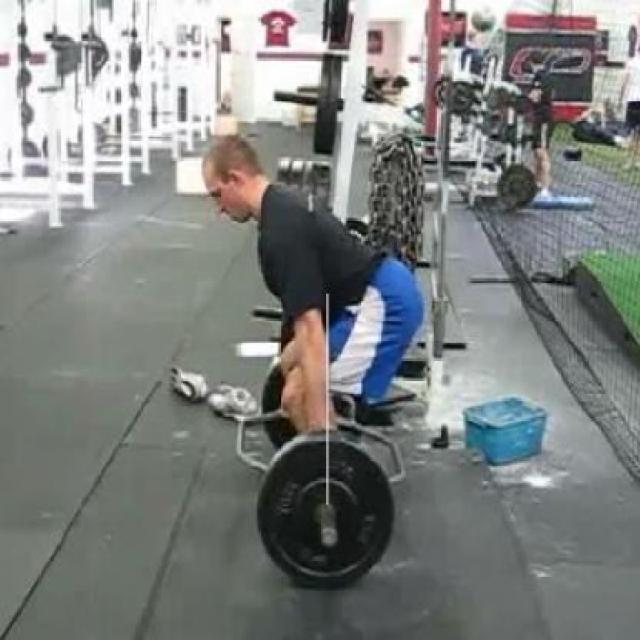barbell: (253, 426, 400, 595)
